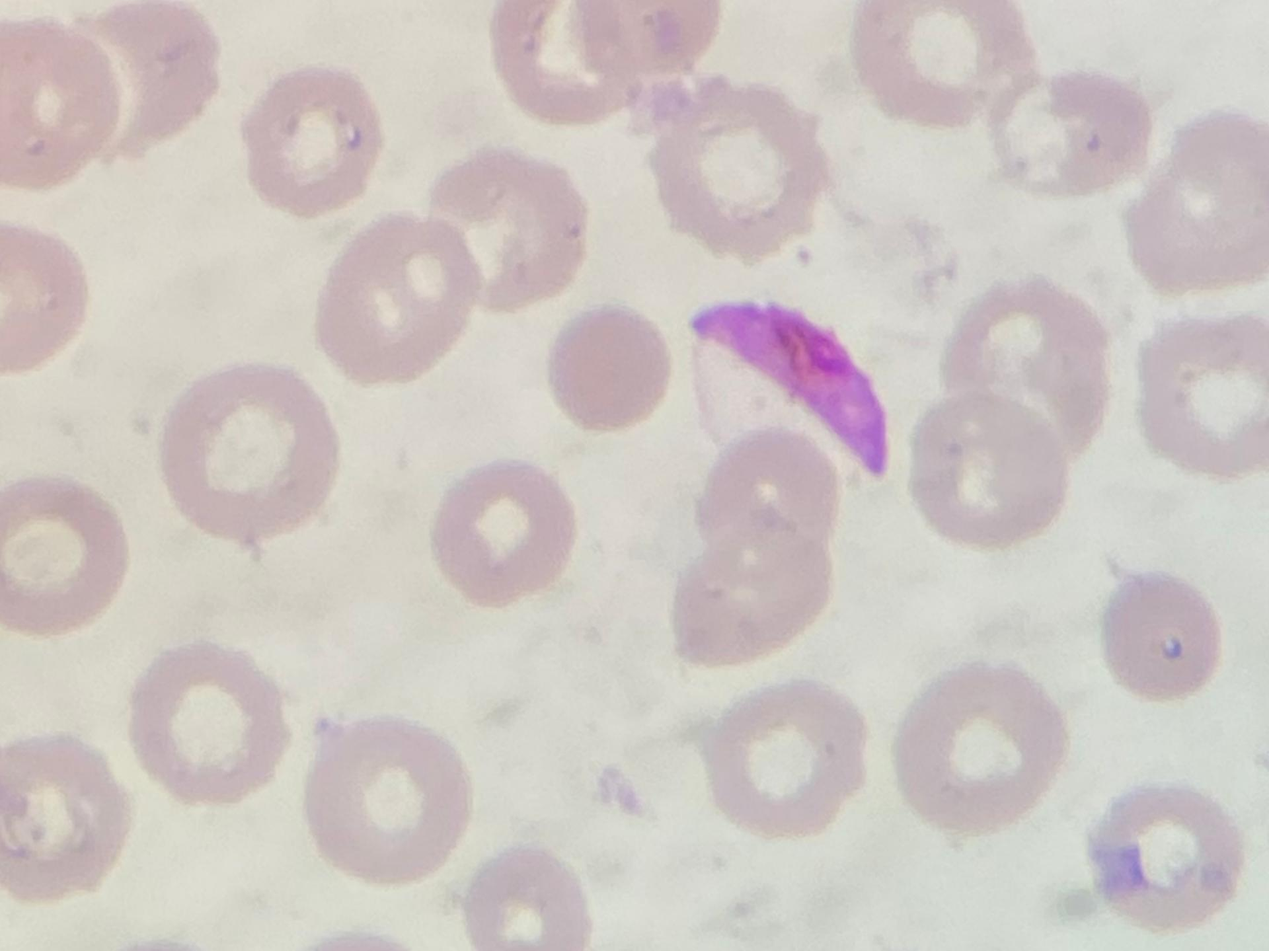Infected: (685, 303, 890, 492)
Uninfected: (157, 363, 340, 544), (652, 84, 837, 261), (893, 664, 1072, 837), (942, 278, 1108, 452), (302, 717, 472, 883), (316, 217, 482, 384), (700, 679, 870, 838), (128, 642, 289, 804), (1124, 114, 1268, 292), (907, 392, 1069, 547), (432, 149, 587, 305), (1085, 780, 1240, 927), (677, 524, 836, 666), (1135, 313, 1268, 478), (430, 461, 579, 608), (855, 0, 1026, 125), (240, 64, 382, 212), (0, 735, 126, 900), (0, 476, 128, 634), (91, 3, 220, 152), (1007, 70, 1157, 198), (697, 432, 841, 559), (493, 0, 628, 124), (1100, 569, 1221, 703), (547, 307, 672, 429)
